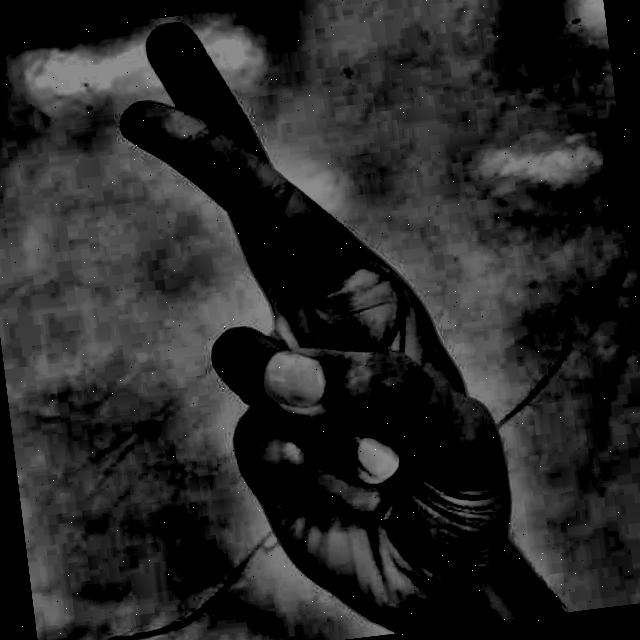Ra: (52, 0, 554, 640)
